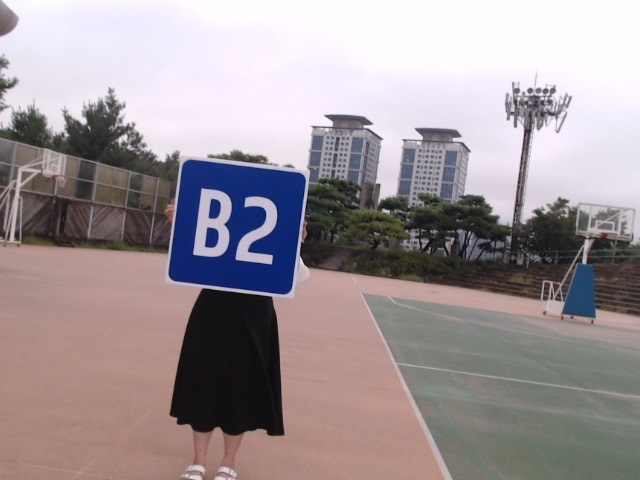delivery_b2: (168, 158, 307, 296)
